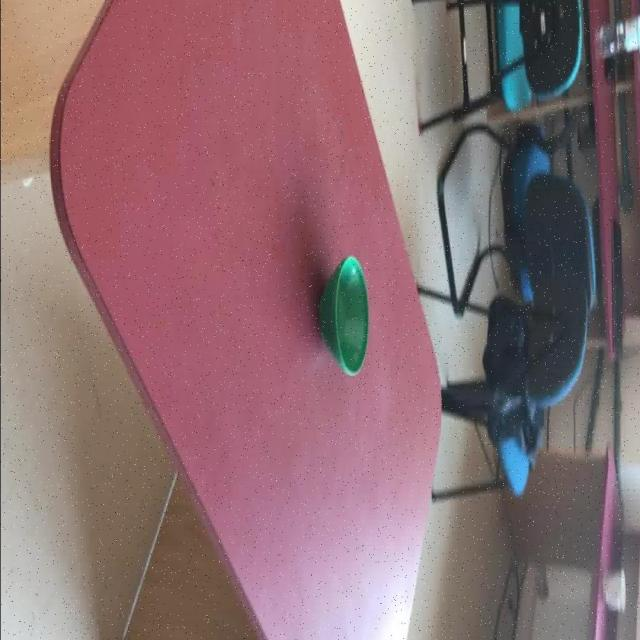Bowl: (318, 254, 371, 376), (603, 567, 627, 612)
